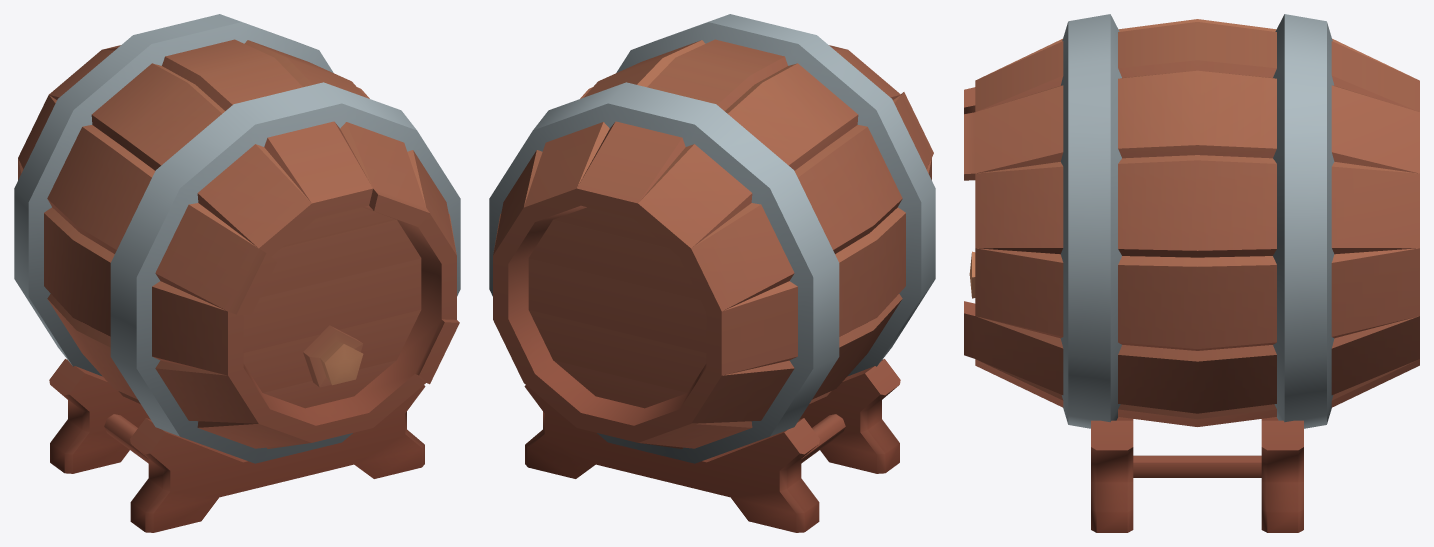
The model's file is keg.fbx.
3 renders of one model, left to right at view 1: azimuth 30°, elevation 25°; view 2: azimuth 150°, elevation 25°; view 3: azimuth 270°, elevation 25°, orthographic. The views are drawn at different scales.
Parts seen in each view (by area): view 1: keg; view 2: keg; view 3: keg.
Boxes of the visible parts, bbox=[...] form: keg: bbox=[14, 14, 460, 532]; keg: bbox=[489, 14, 935, 532]; keg: bbox=[964, 14, 1419, 532].
Size of the model in its own units: 180 by 205 by 200.
Materials: 1 (1 with a texture image).
